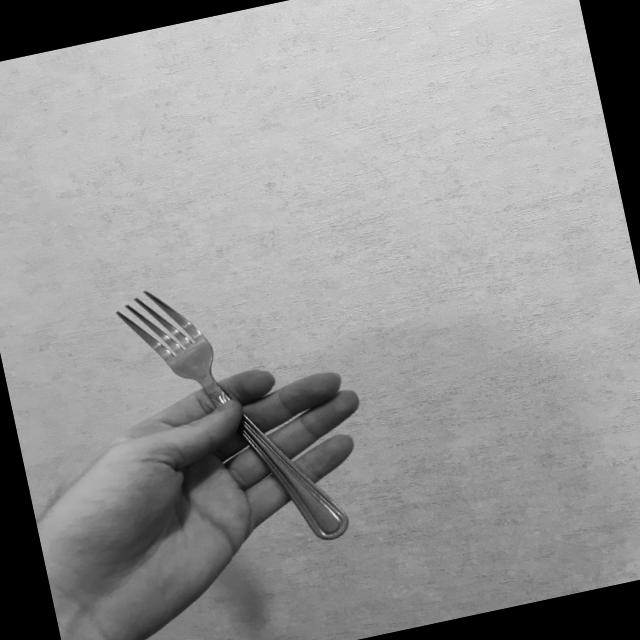fork: (108, 258, 351, 574)
